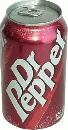grozi_59: (0, 0, 67, 130)
